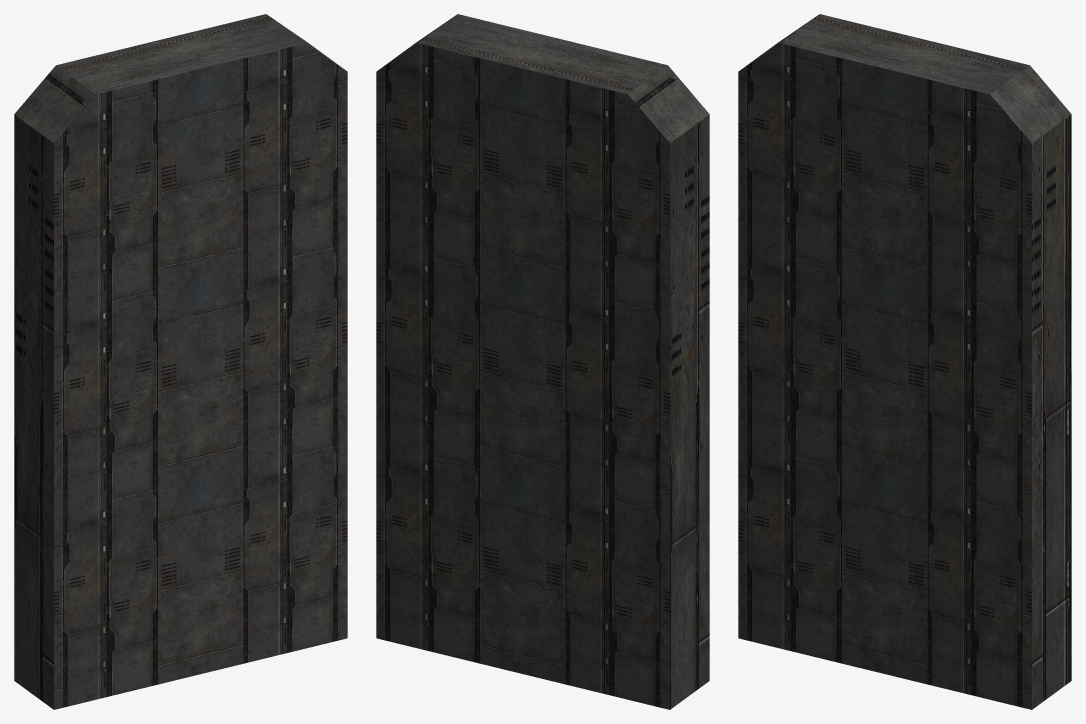
Rendered from FencePanel.FBX.
3 views of the same model, side by side, from view 1: azimuth 30°, elevation 25°; view 2: azimuth 150°, elevation 25°; view 3: azimuth 330°, elevation 25° (orthographic).
Visible parts, largest first — view 1: Fence_1, Fence_0; view 2: Fence_1, Fence_0; view 3: Fence_1, Fence_0.
Part boxes in pixels (x1=…): Fence_1: x1=54, y1=43, x2=347, y2=709; Fence_0: x1=14, y1=14, x2=344, y2=709; Fence_1: x1=376, y1=43, x2=669, y2=709; Fence_0: x1=379, y1=14, x2=709, y2=709; Fence_1: x1=738, y1=43, x2=1031, y2=709; Fence_0: x1=741, y1=14, x2=1071, y2=709.
Bounding box in the file's own units: 15.54 × 30.59 × 3.65.
